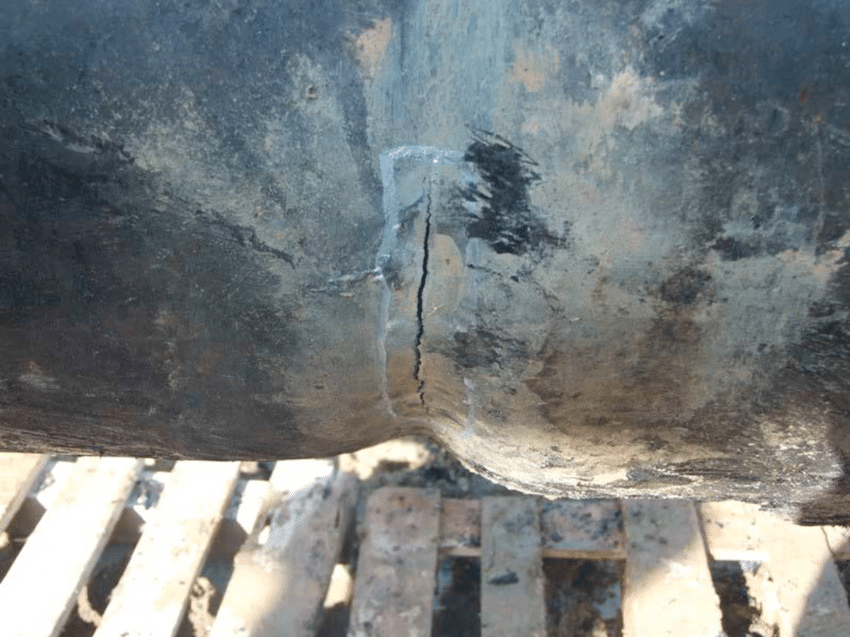crack: (404, 170, 442, 423)
